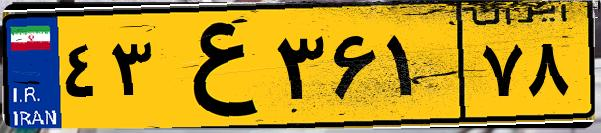1: (385, 28, 445, 110)
3: (270, 28, 330, 110), (110, 28, 158, 98)
4: (57, 26, 110, 100)
6: (330, 28, 385, 110)
7: (475, 38, 525, 113)
8: (525, 38, 570, 115)
ع: (158, 12, 270, 120)
